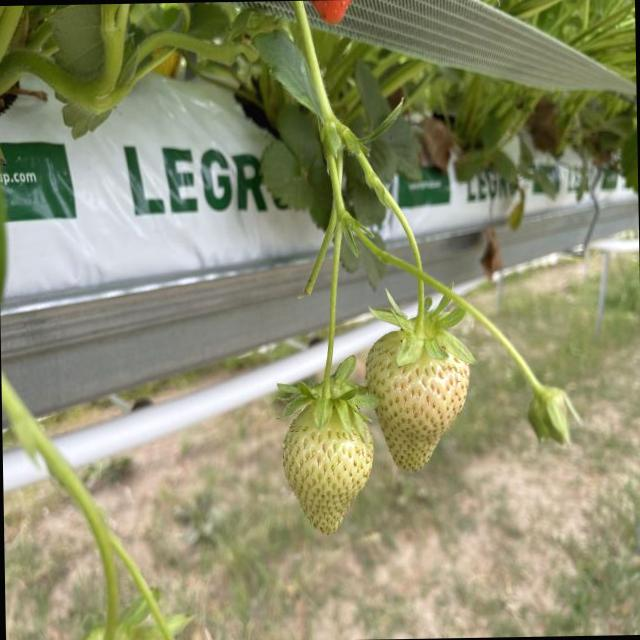stem: (279, 221, 364, 434), (375, 218, 473, 365)
strawberryNR: (368, 345, 467, 470), (282, 412, 373, 533)
strawberryR: (309, 0, 349, 22)
